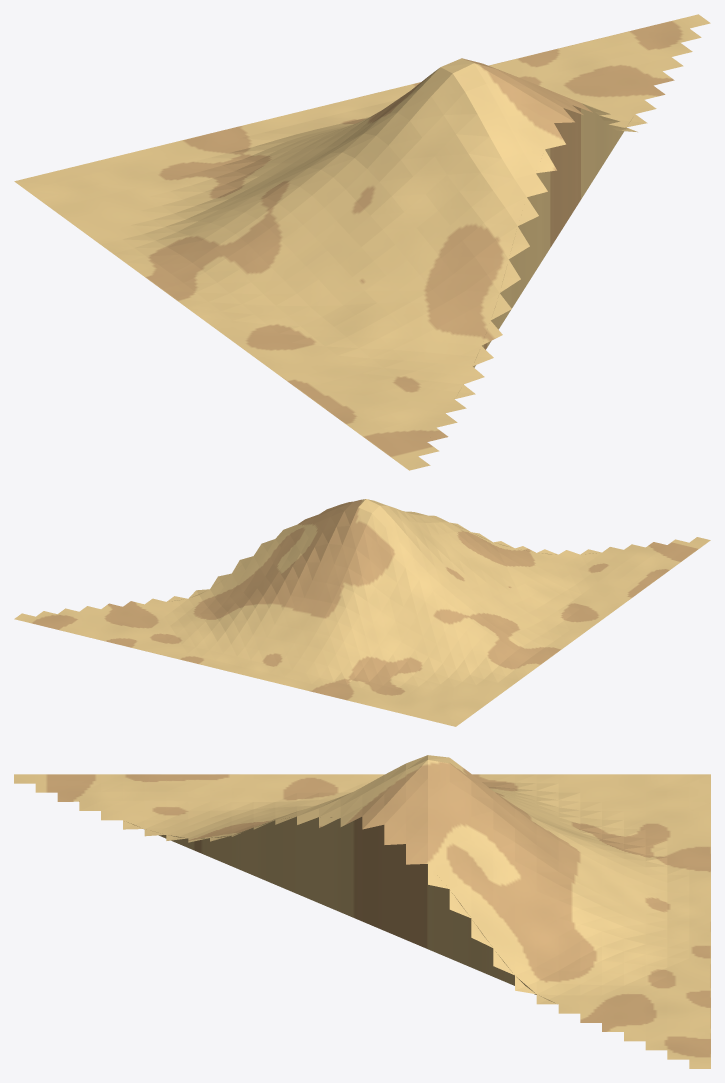
File: Desert_Mountains_03_SW.obj
The picture shows the model from 3 angles, top to bottom: view 1: azimuth 30°, elevation 25°; view 2: azimuth 150°, elevation 25°; view 3: azimuth 270°, elevation 25°; orthographic projection. The views are drawn at different scales.
Bounding box in the file's own units: 10 × 2.27 × 10.
1 material, 1 textured.
